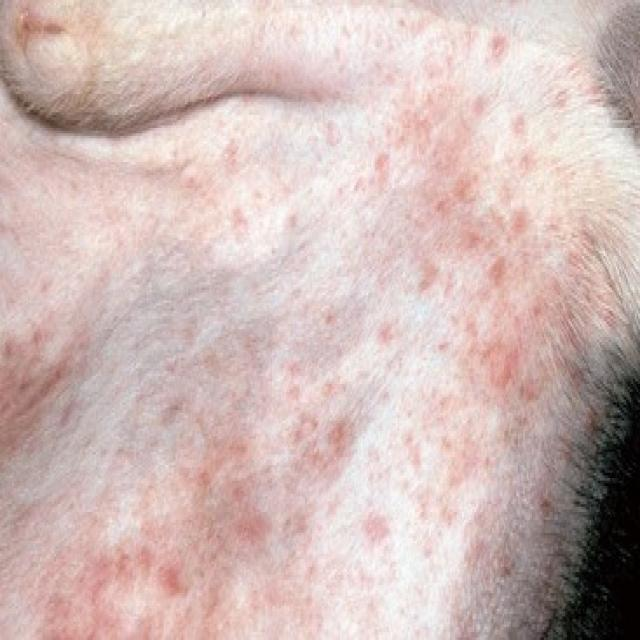allergic dermatitis: (404, 88, 590, 400), (23, 436, 272, 640), (0, 329, 78, 452), (296, 392, 348, 497)
